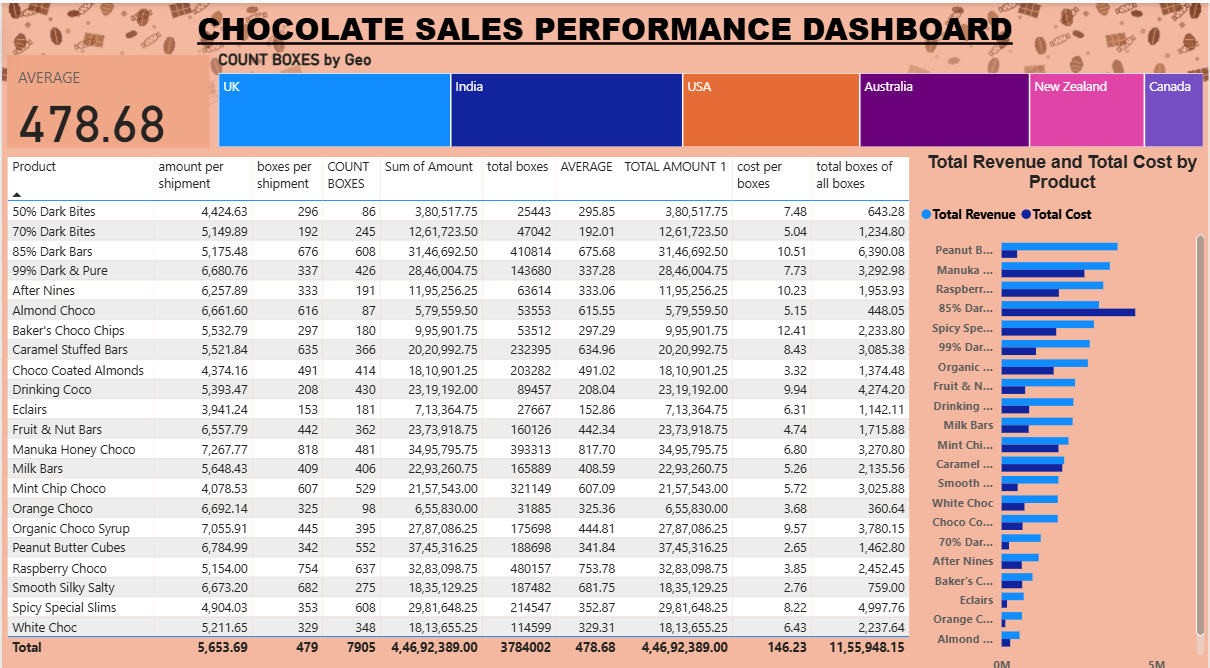

Layout of this report page (visuals, bound fields, positions):
{"tool":"powerbi","page":{"name":"Page 03","canvas":[1280,720],"ordinal":2},"visuals":[{"type":"tableEx","fields":{"Values":["products.Product","calendar.amount per shipment","calendar.boxes per shipment","calendar.COUNT BOXES","Sum(shipments.Amount)","calendar.total boxes","calendar.AVERAGE","calendar.TOTAL AMOUNT 1","calendar.cost per boxes","calendar.total boxes of all boxes"]},"box":[0,158.7,968.3,561.9],"z":0},{"type":"cardVisual","fields":{"Data":["calendar.AVERAGE"]},"box":[0,50.2,225.1,108.5],"z":1000},{"type":"textbox","box":[0,0,1278.9,70],"z":2000},{"type":"treemap","fields":{"Values":["calendar.COUNT BOXES"],"Group":["locations.Geo"]},"box":[224.9,51,1054.5,107.7],"z":3000},{"type":"clusteredBarChart","fields":{"Y":["calendar.Total Revenue","calendar.Total Cost"],"Category":["products.Product"]},"box":[968.3,158.7,310.9,561.9],"z":4000}]}

Visuals, with their boxes in screenshot pixels (x1, y1, x2, y2), scaled from the page's 1280x720 canvas onto the 1210x668 screenshot:
tableEx - products.Product x calendar.amount per shipment: (0,147,915,667)
cardVisual - calendar.AVERAGE: (0,47,213,147)
textbox: (0,0,1209,65)
treemap - calendar.COUNT BOXES x locations.Geo: (213,47,1209,147)
clusteredBarChart - calendar.Total Revenue x calendar.Total Cost: (915,147,1209,667)
